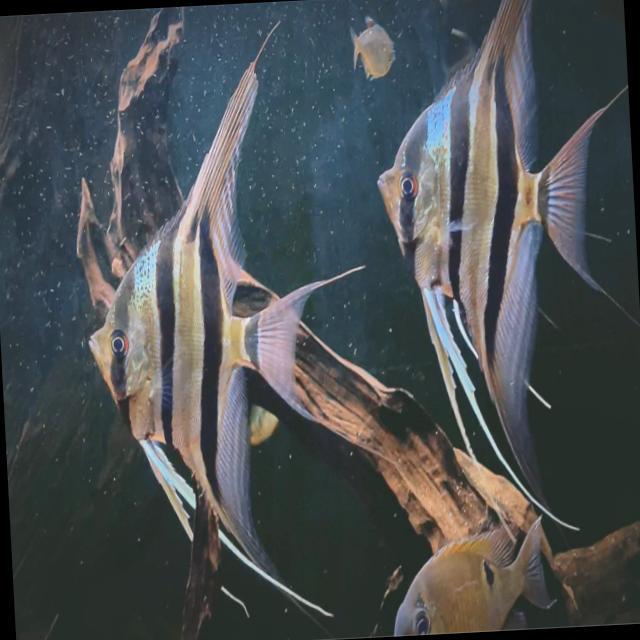AngelFish: (76, 60, 328, 579), (366, 0, 617, 491)
